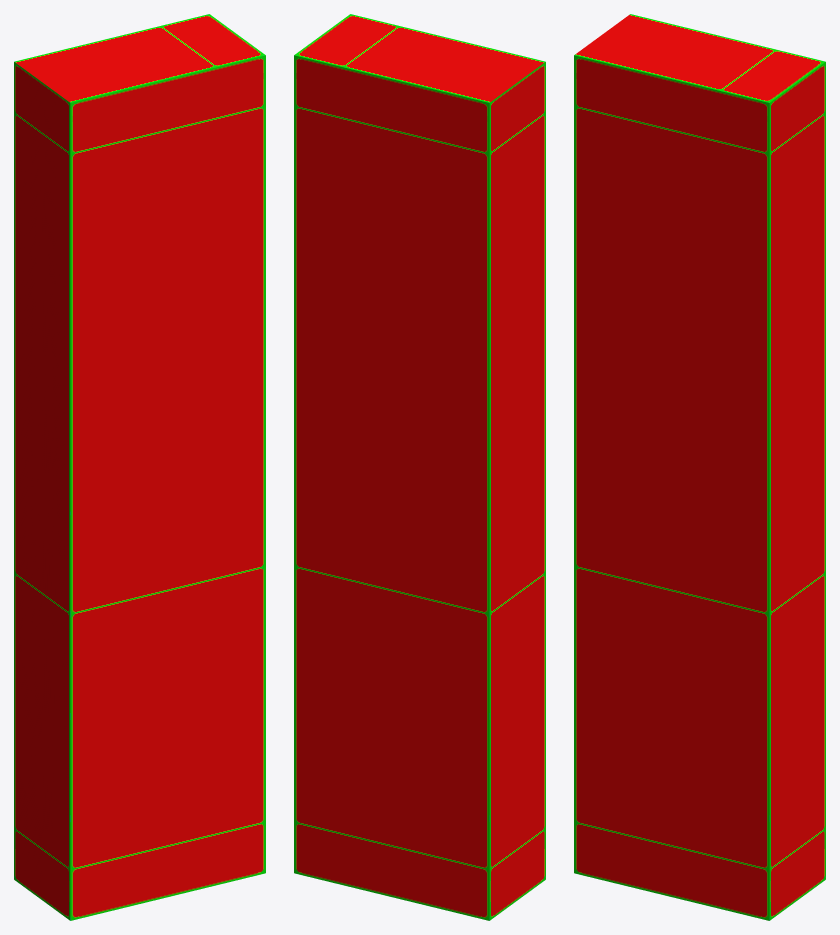
File: SM_Bathroom_Wall_A_Quarter.FBX
3 renders of one model, left to right at view 1: azimuth 30°, elevation 25°; view 2: azimuth 150°, elevation 25°; view 3: azimuth 330°, elevation 25°, orthographic.
Parts seen in each view (by area): view 1: SM_Bathroom_Wall_A_Quarter; view 2: SM_Bathroom_Wall_A_Quarter; view 3: SM_Bathroom_Wall_A_Quarter.
Boxes of the visible parts, x1,y1,x2,y2 form: SM_Bathroom_Wall_A_Quarter: (14,14,265,920); SM_Bathroom_Wall_A_Quarter: (294,14,545,920); SM_Bathroom_Wall_A_Quarter: (574,14,825,920).
Bounding box in the file's own units: 100 × 400 × 50.
Materials: 1 (1 with a texture image).
